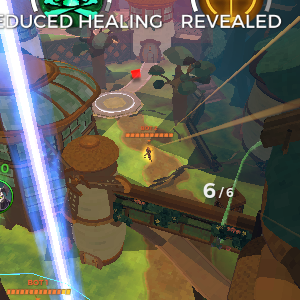model: (143, 145, 153, 162)
